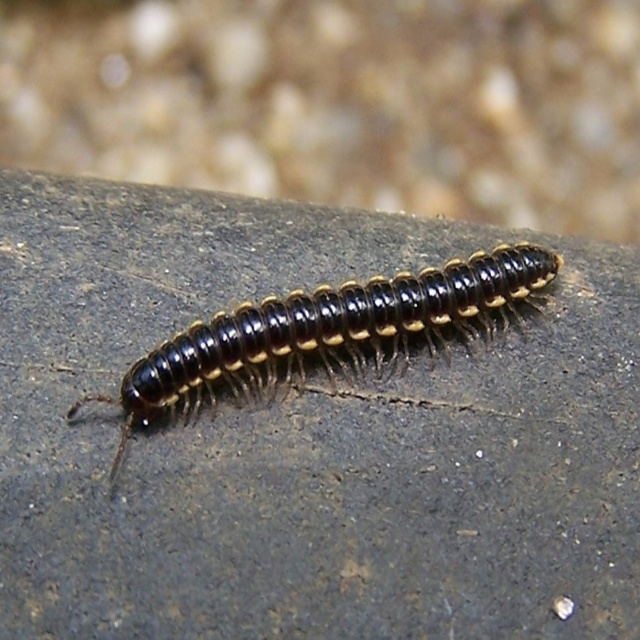Centipede: (64, 233, 562, 484)
